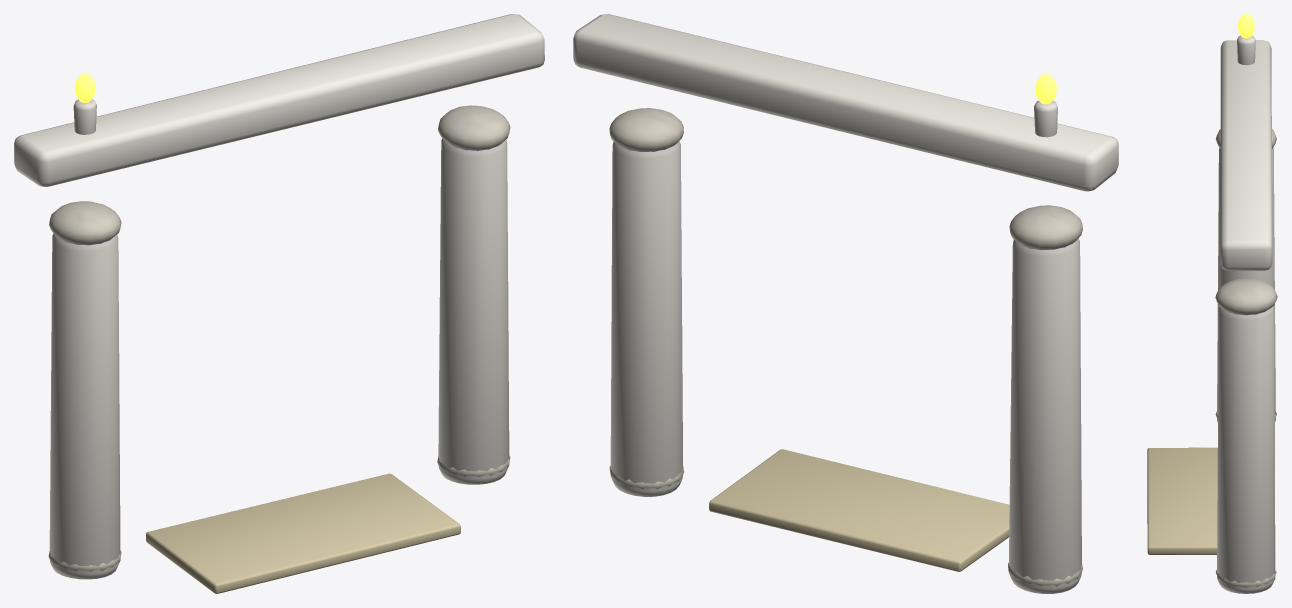
The picture shows the model from 3 angles, left to right: view 1: azimuth 30°, elevation 25°; view 2: azimuth 150°, elevation 25°; view 3: azimuth 270°, elevation 25°; orthographic projection. The views are drawn at different scales.
Parts seen in each view (by area): view 1: gate_40859b83; view 2: gate_40859b83; view 3: gate_40859b83.
Boxes of the visible parts, x1,y1,x2,y2 form: gate_40859b83: (14, 14, 544, 593); gate_40859b83: (573, 14, 1118, 593); gate_40859b83: (1147, 14, 1277, 593).
Size of the model in its own units: 4.95 by 4.62 by 1.32.
